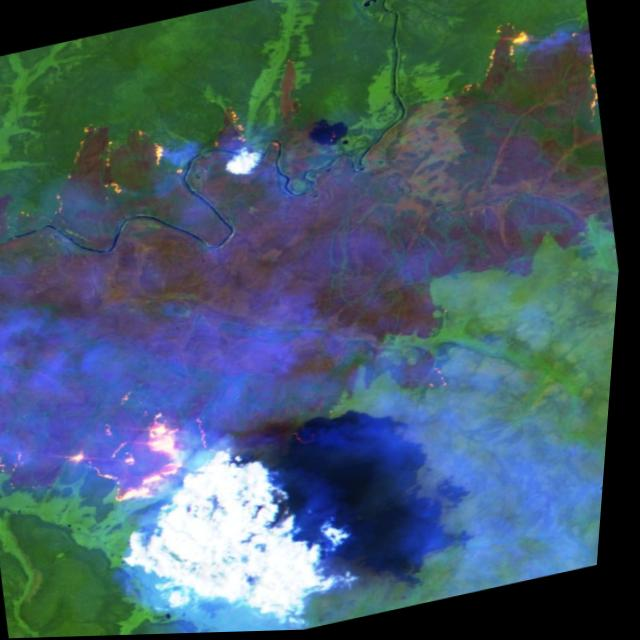fire: (18, 75, 289, 231), (47, 391, 229, 522), (447, 10, 555, 102)
